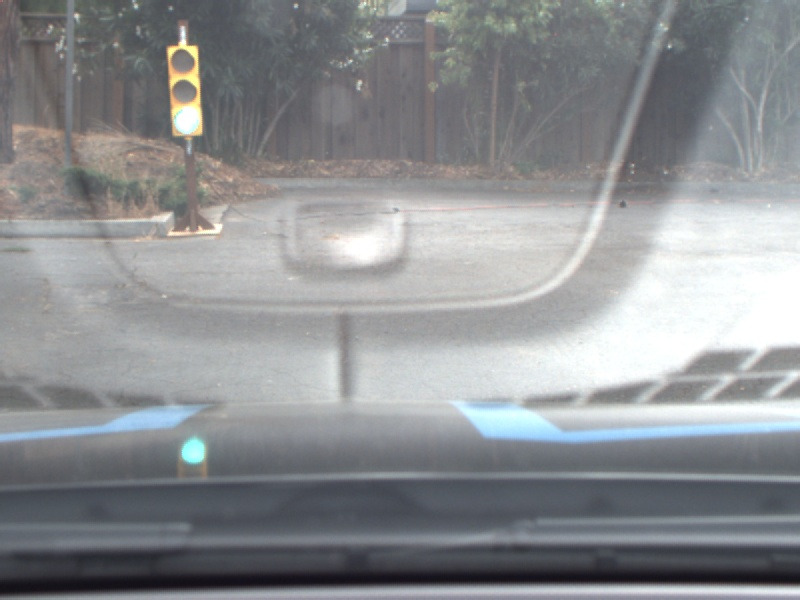green: (164, 37, 208, 144)
